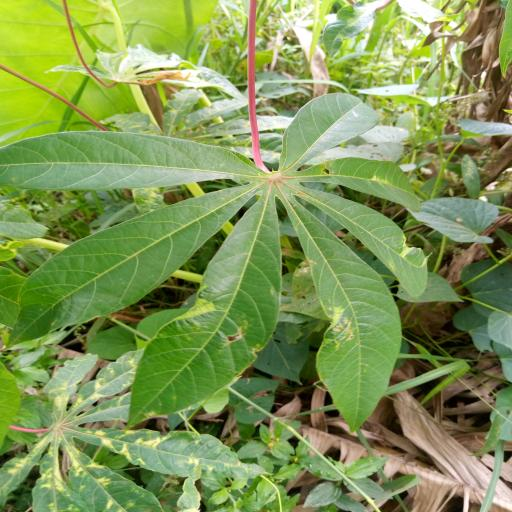Cassava_Mosaic: (2, 86, 455, 427)
